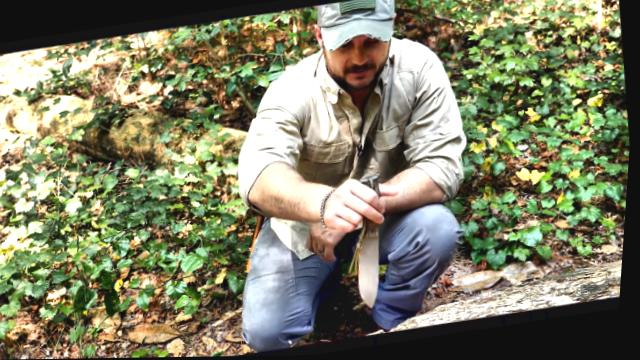knife: (331, 177, 402, 317)
